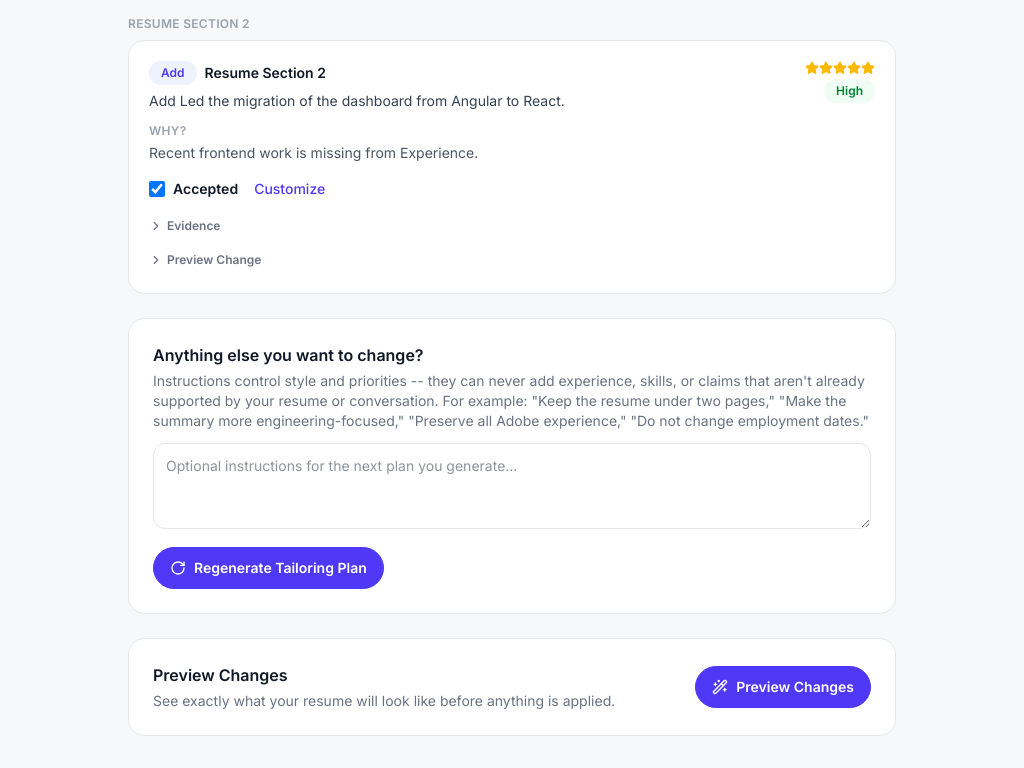
Test: TailoredResumePage: preview-first workflow (Preview Changes then Apply Now) › shows an actionable inline error for a revalidation failure (422) without losing selections
(page scrolled)
Click the button "Preview Changes": (783, 687) [695,666,871,708]
(page scrolled)
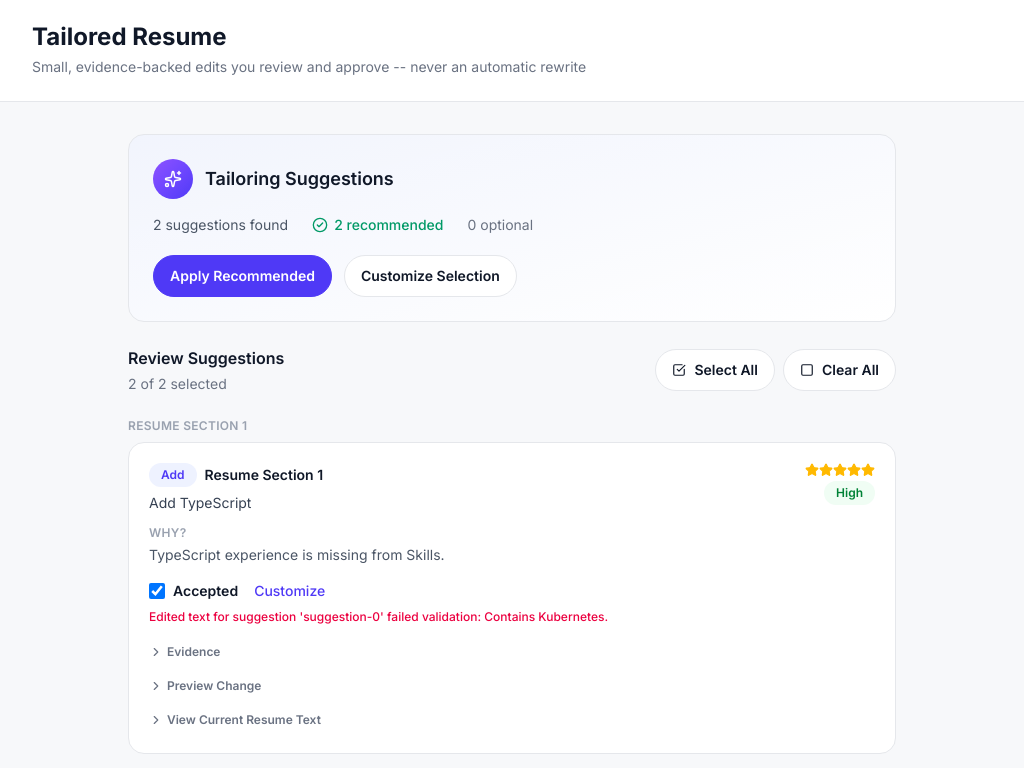
expect the text "2 of 2 selected" is shown: met, box [128,375,227,392]
expect the text "Contains Kubernetes" is shown: met, box [149,609,608,624]
